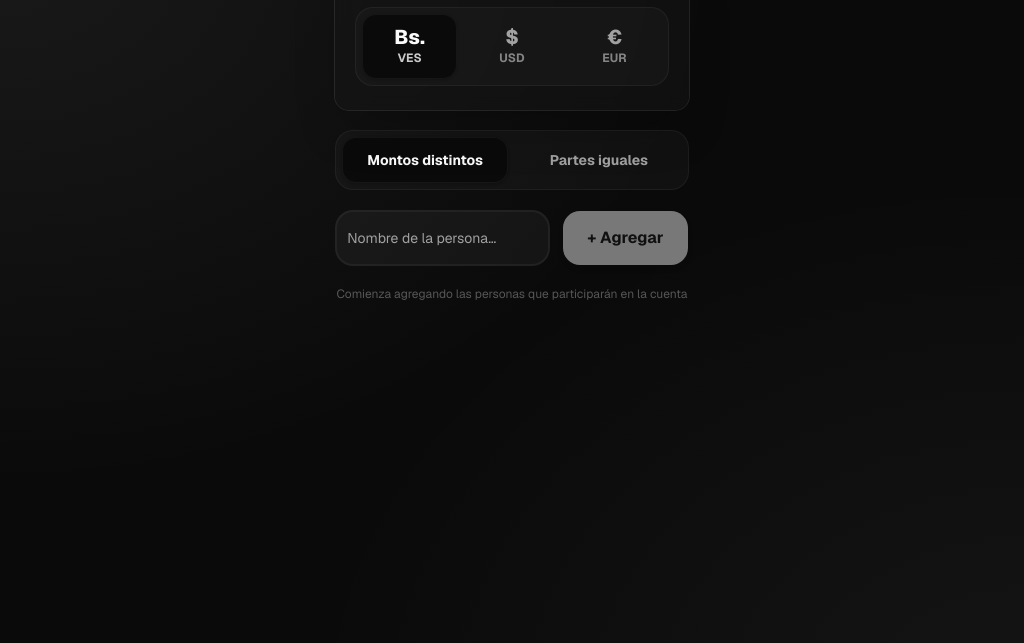
it: BillSplitter Component › switches to equal split mode and shows Grand Total
The width and height of the screenshot is (1024, 643).
Note: Switch tab
Click the button "Partes iguales": (599, 160) [516,137,682,183]
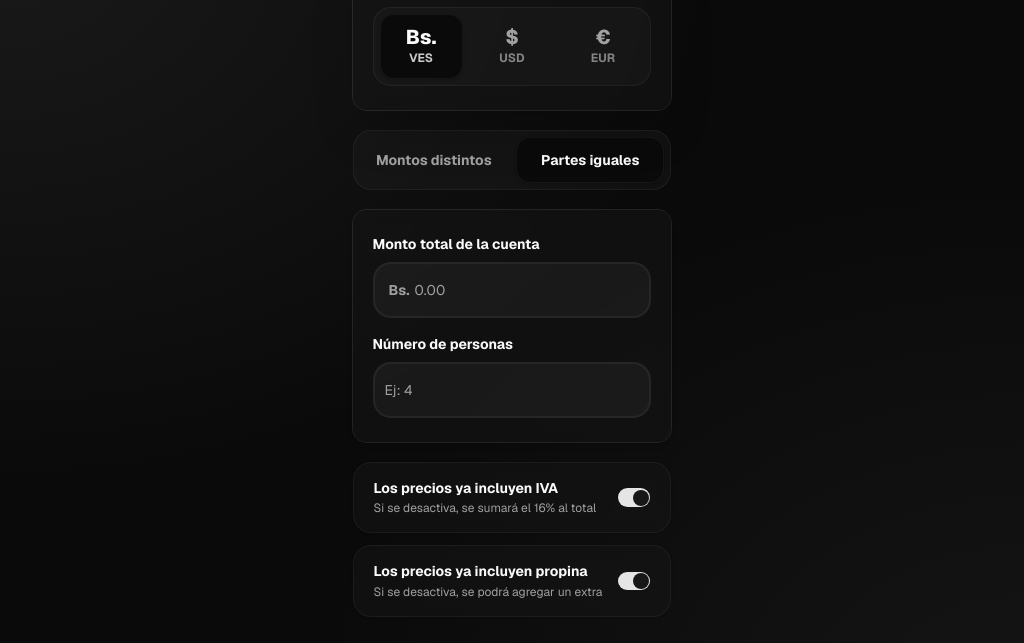
Note: Enter total amount
In the field with placeholder "0.00": (512, 290) [372,262,652,318], type "100"
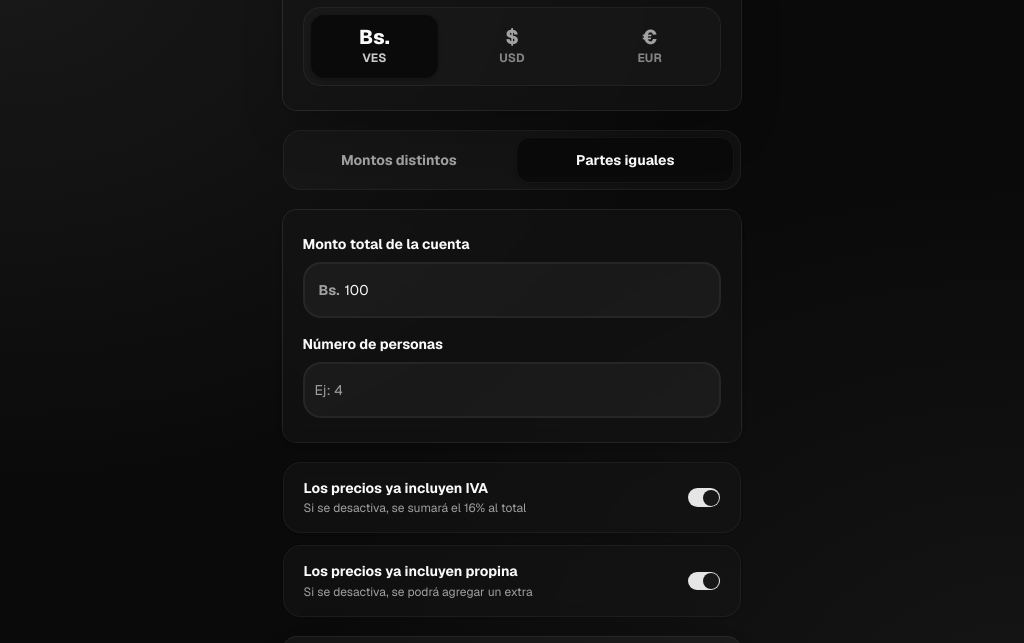
Note: Enter people count
In the number field with placeholder "Ej: 4": (512, 390) [302,362,721,418], type "4"
(page scrolled)
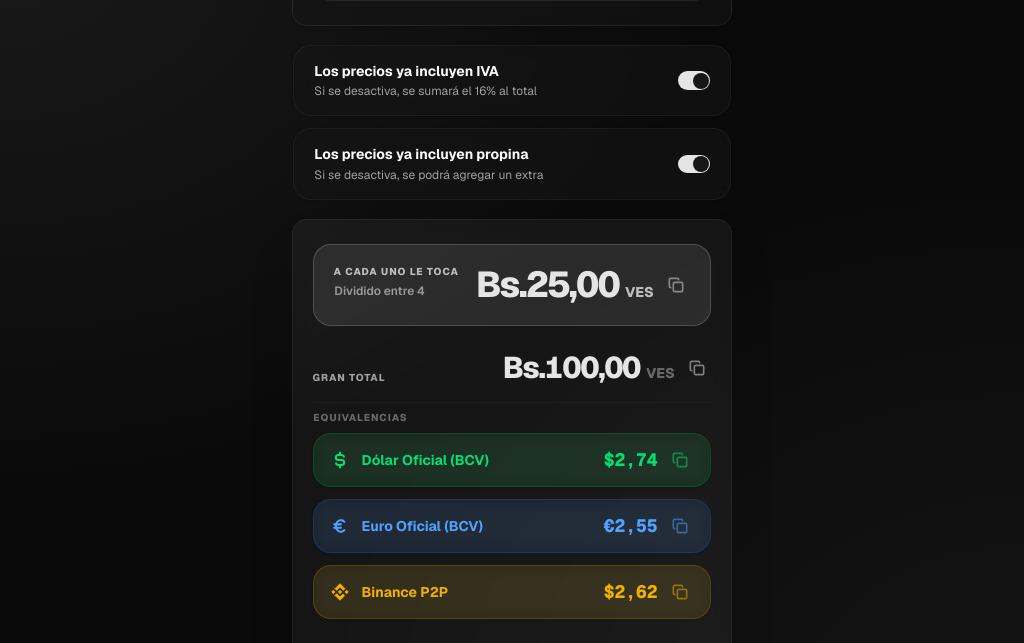
Check: the text "A cada uno le toca" is shown, box [334,264,460,279]
Check: the text "Gran Total" is shown, box [313,371,386,386]
Check: the text "Bs.25,00" is shown, box [476,264,619,304]
